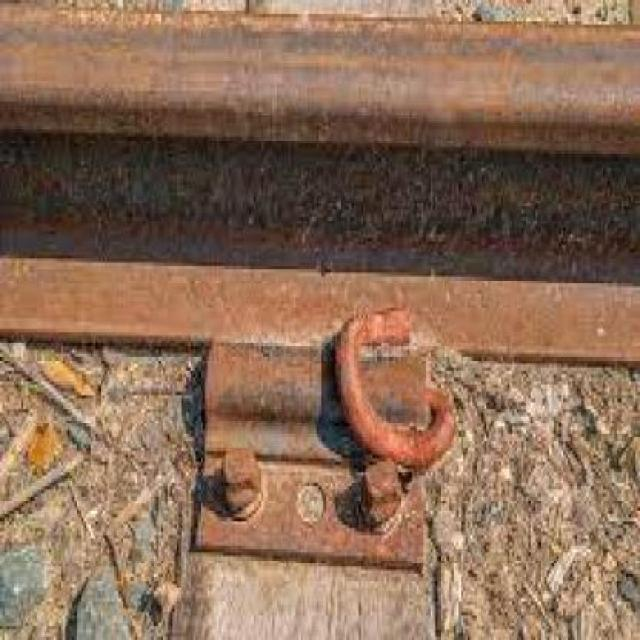defective: (4, 0, 640, 388)
